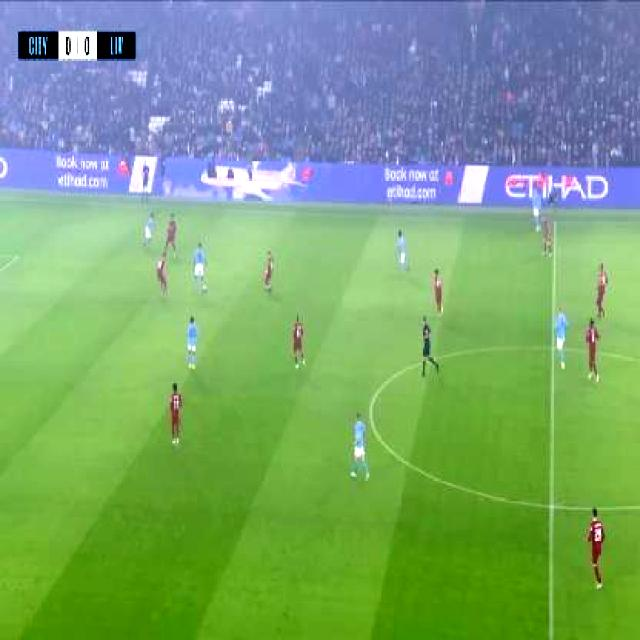bigarea_top_inner: (6, 243, 28, 272)
halfcircle_bottom: (537, 488, 565, 523)
halfcircle_top: (543, 334, 560, 360)
midline_top_intersection: (546, 211, 563, 232)
